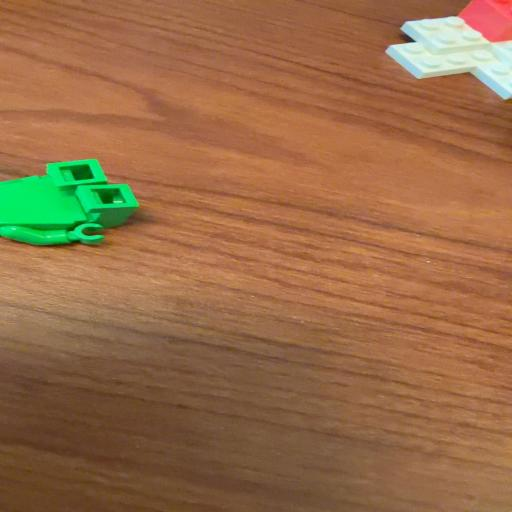UnoQ-minifig-detector: (0, 159, 138, 245)
